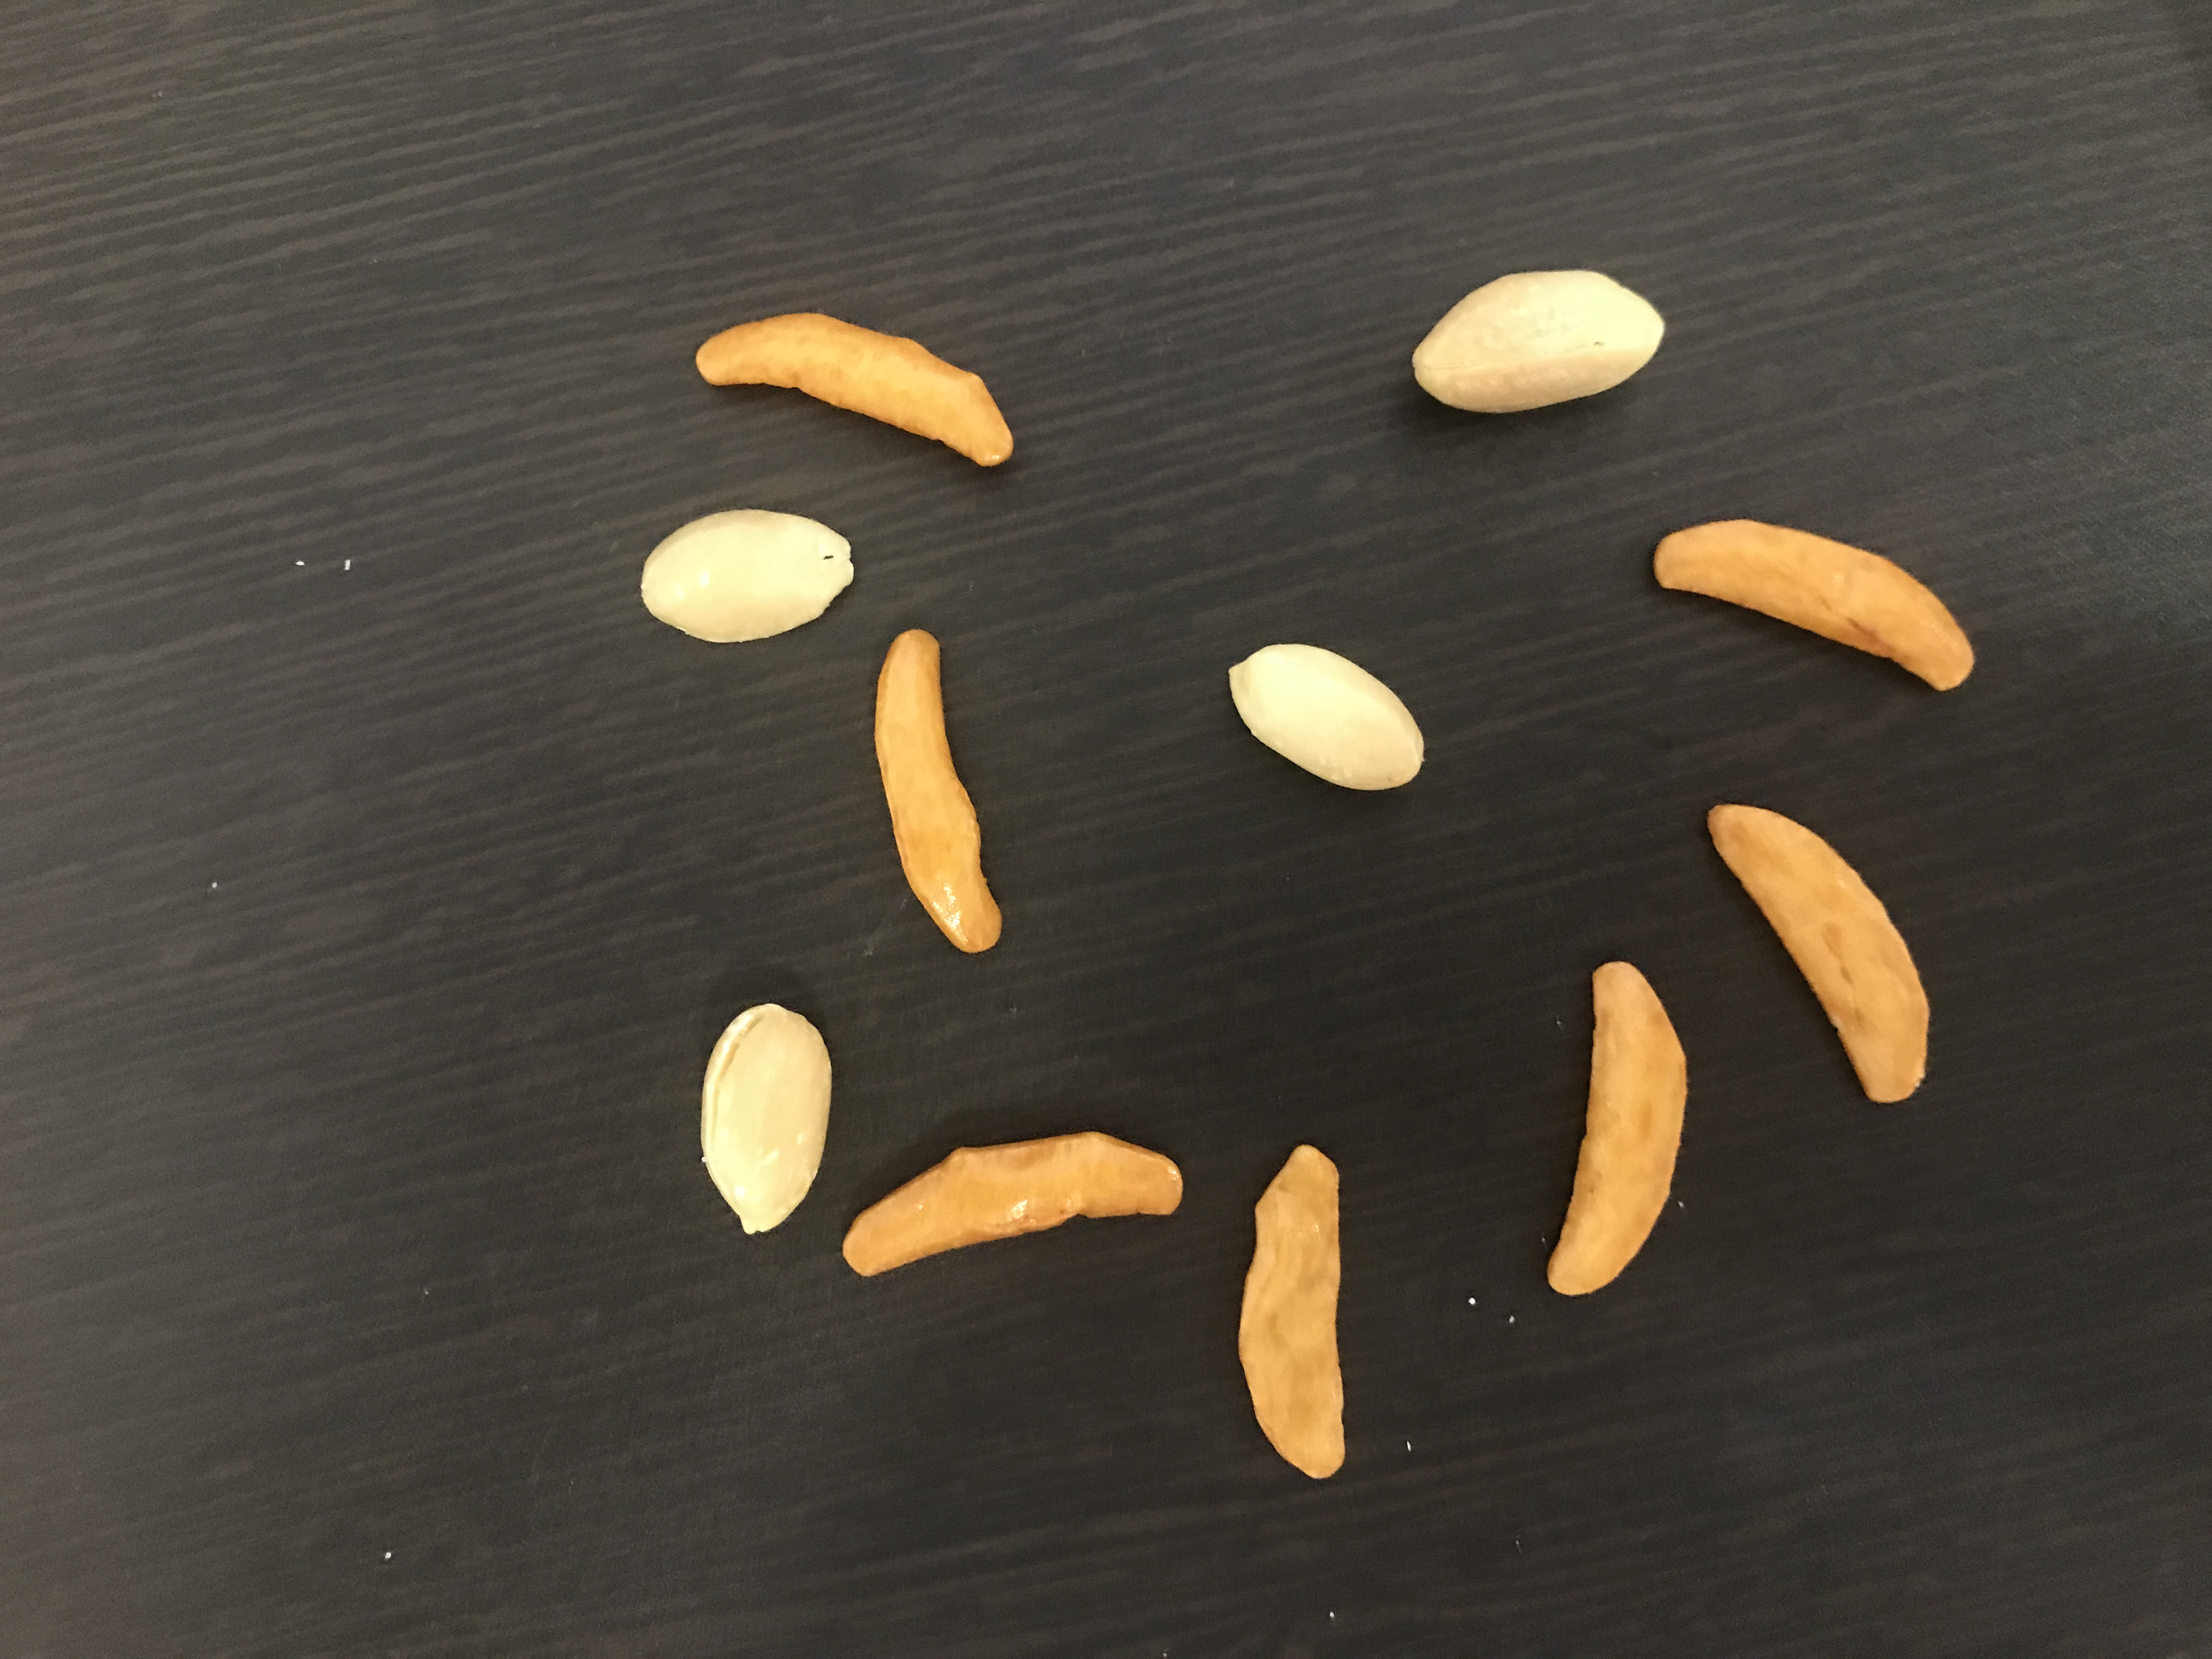peanut: (1407, 261, 1670, 410), (1214, 638, 1449, 796), (693, 990, 840, 1236), (637, 502, 859, 643)
